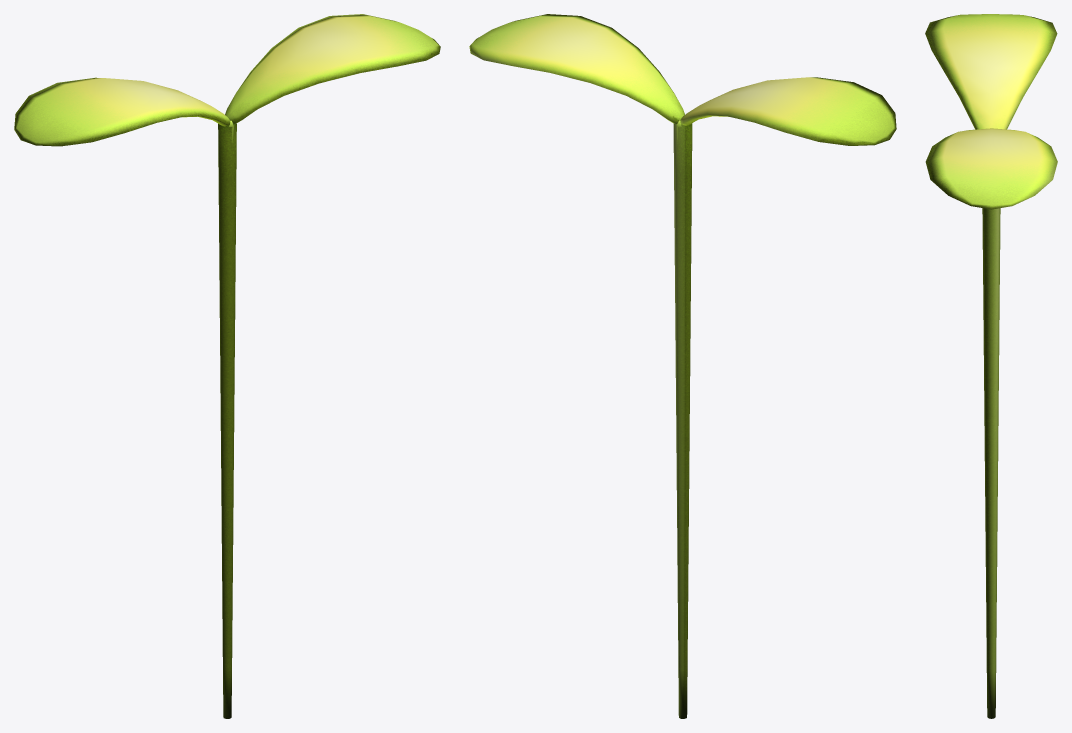
Rendered from Hennepplant_AR_008.gltf.
3 renders of one model, left to right at view 1: azimuth 30°, elevation 25°; view 2: azimuth 150°, elevation 25°; view 3: azimuth 270°, elevation 25°, orthographic. The views are drawn at different scales.
Visible parts, largest first — view 1: Hempplant; view 2: Hempplant; view 3: Hempplant.
Boxes of the visible parts, x1,y1,x2,y2 form: Hempplant: [14, 14, 440, 718]; Hempplant: [469, 14, 896, 718]; Hempplant: [925, 14, 1057, 718].
Size of the model in its own units: 0.3676 by 0.552 by 0.1061.
1 material, 1 textured.
